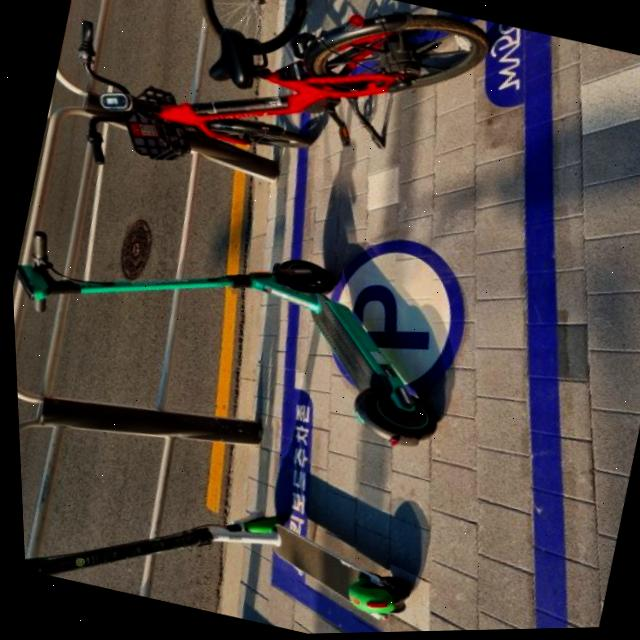ebike_ok: (295, 0, 562, 146)
kickboard_ok: (8, 170, 473, 431), (235, 518, 426, 631)
parking_zone: (262, 405, 579, 589)
